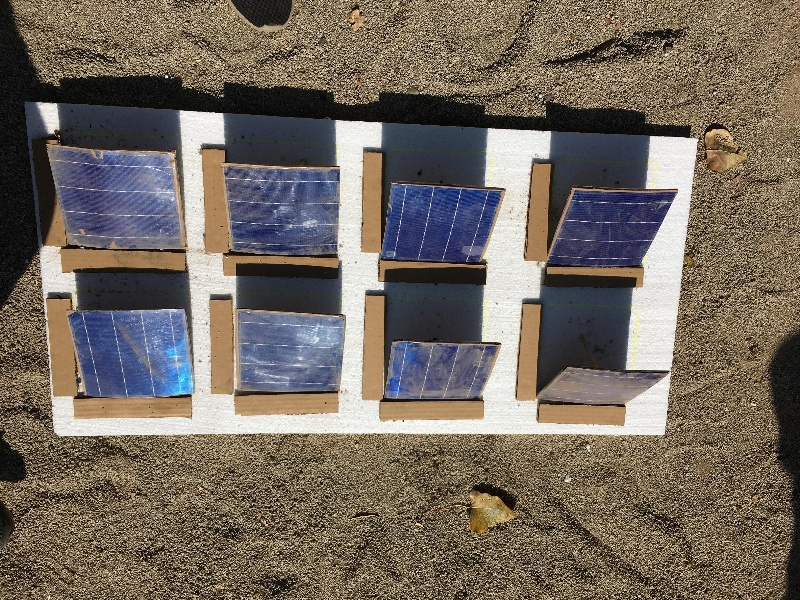clean: (540, 187, 681, 269), (66, 310, 195, 397), (378, 184, 496, 266)
dirty: (386, 338, 501, 400), (537, 368, 672, 406)
semi: (40, 145, 198, 256), (222, 164, 340, 254), (226, 309, 347, 396)
